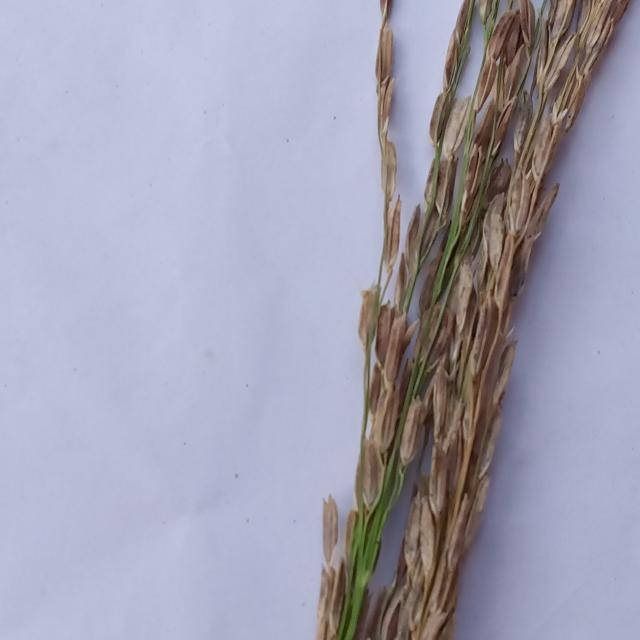Neck_Blast: (368, 0, 638, 640), (357, 0, 533, 513)
